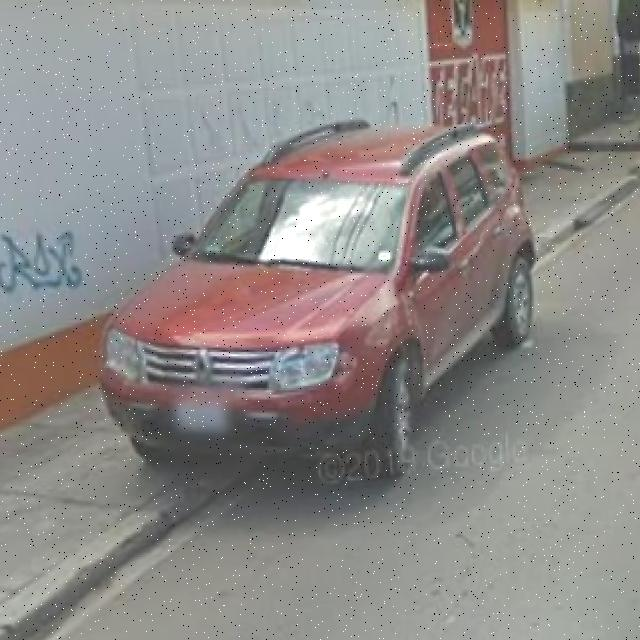car: (90, 126, 536, 486)
